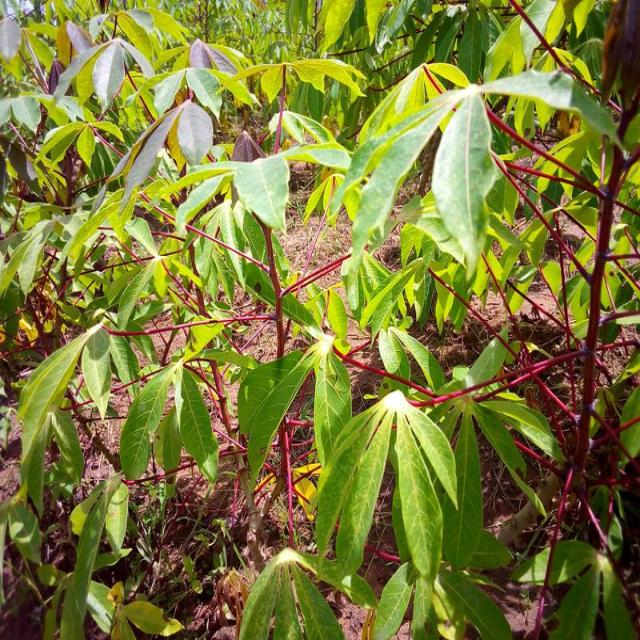cassava leaf: (431, 86, 500, 284)
